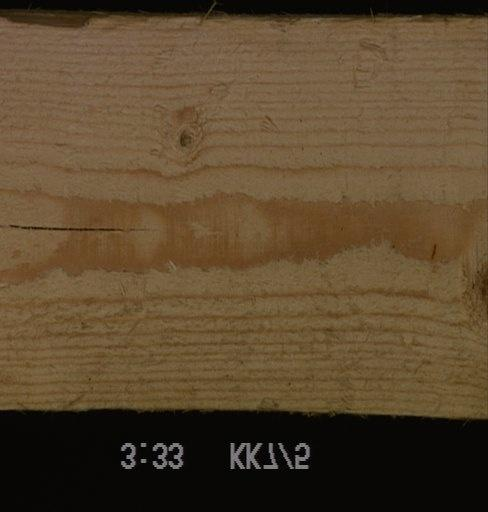sound_knot: (451, 215, 487, 326), (154, 101, 214, 167)
split: (0, 220, 158, 245)
wave: (7, 5, 242, 33)
